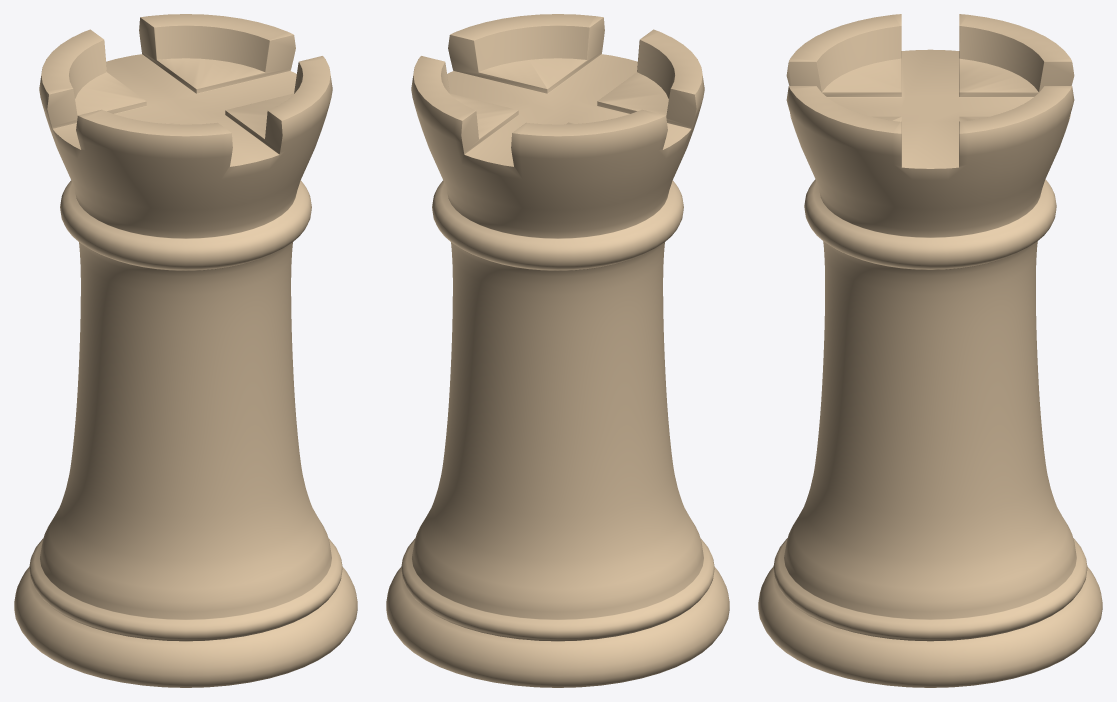
Rendered from white-rook.glb.
The picture shows the model from 3 angles, left to right: view 1: azimuth 30°, elevation 25°; view 2: azimuth 150°, elevation 25°; view 3: azimuth 270°, elevation 25°; orthographic projection.
Parts seen in each view (by area): view 1: white-rook.001; view 2: white-rook.001; view 3: white-rook.001.
Boxes of the visible parts, <box> form: white-rook.001: <box>14,14,357,687</box>; white-rook.001: <box>386,14,729,687</box>; white-rook.001: <box>758,14,1102,687</box>.
Size of the model in its own units: 0.66 by 1.15 by 0.66.
